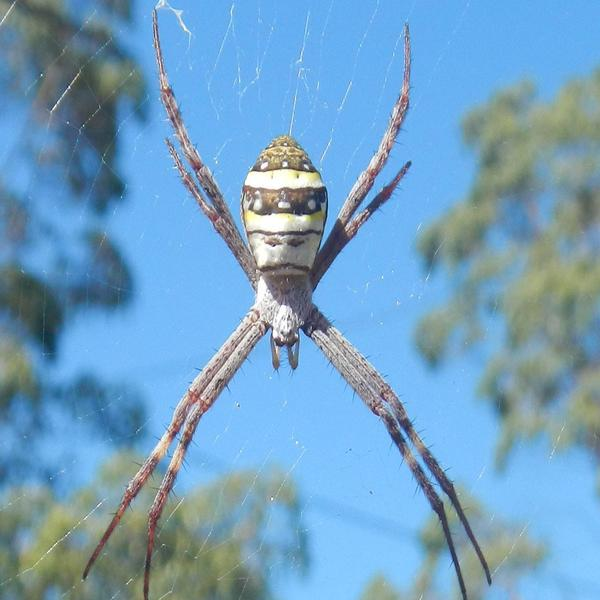St Andrew's Cross Spider: (107, 23, 488, 586)
